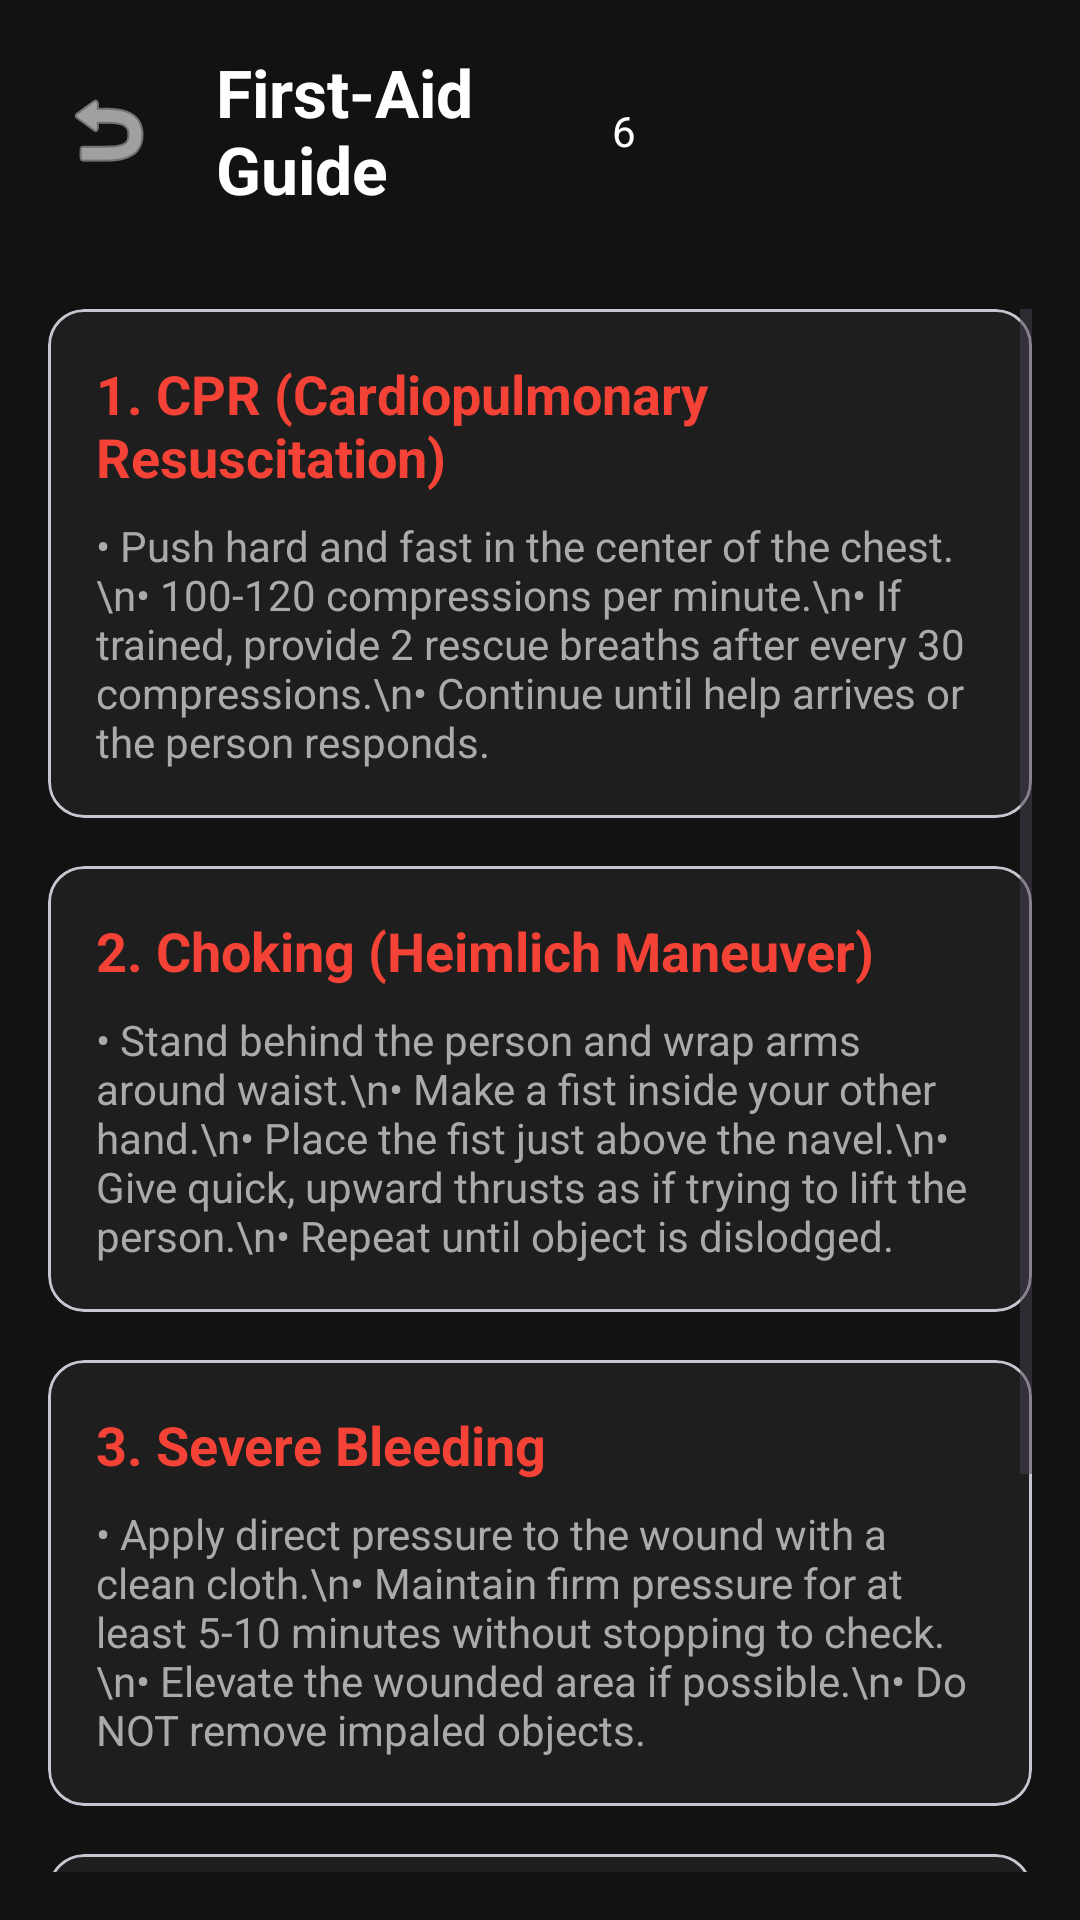

Icon click points for this 1080px×1920px phone screenshot, format (x,y):
Back: (109,130)
